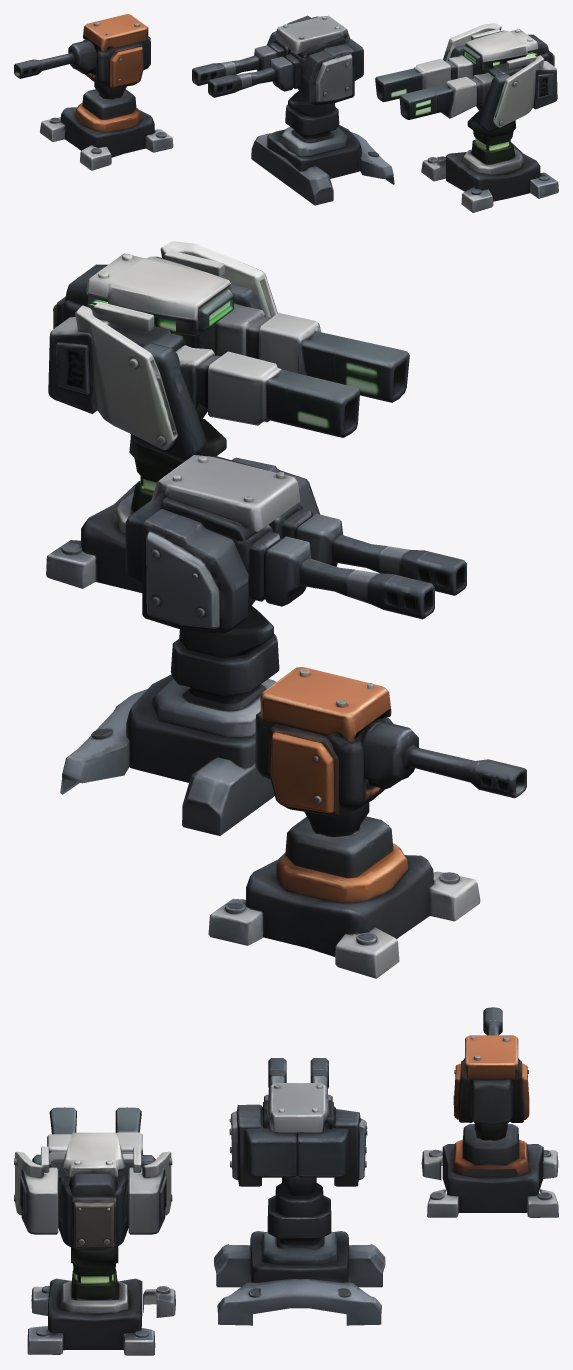
Rendered from defense_turret_3d_models.fbx.
3 views of the same model, one above another, from view 1: azimuth 30°, elevation 25°; view 2: azimuth 150°, elevation 25°; view 3: azimuth 270°, elevation 25° (orthographic). The views are drawn at different scales.
Parts seen in each view (by area): view 1: tripo_7b1ddbdf_f5a3_471e_bb68_0905027aab75; view 2: tripo_7b1ddbdf_f5a3_471e_bb68_0905027aab75; view 3: tripo_7b1ddbdf_f5a3_471e_bb68_0905027aab75.
Boxes of the visible parts, x1,y1,x2,y2 form: tripo_7b1ddbdf_f5a3_471e_bb68_0905027aab75: (14,14,558,212); tripo_7b1ddbdf_f5a3_471e_bb68_0905027aab75: (46,241,526,978); tripo_7b1ddbdf_f5a3_471e_bb68_0905027aab75: (14,1007,558,1355).
Bounding box in the file's own units: 0.9995 × 0.4175 × 0.9458.
1 material, 1 textured.
